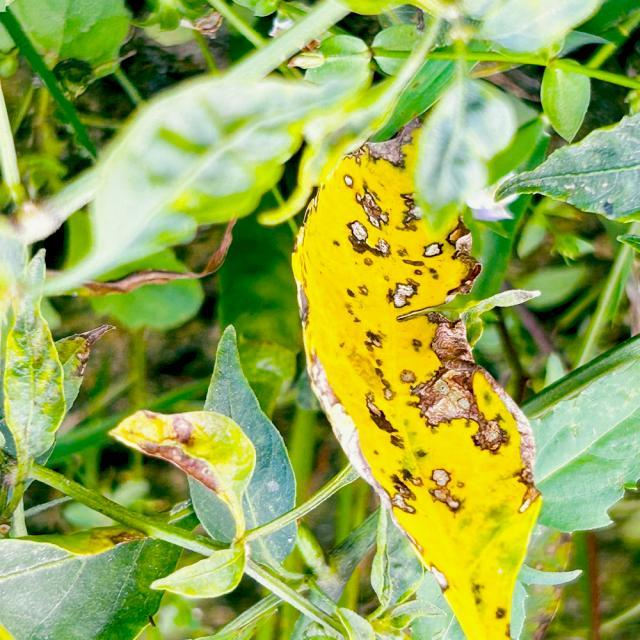Bercak Daun Serkospora: (290, 136, 548, 640)
